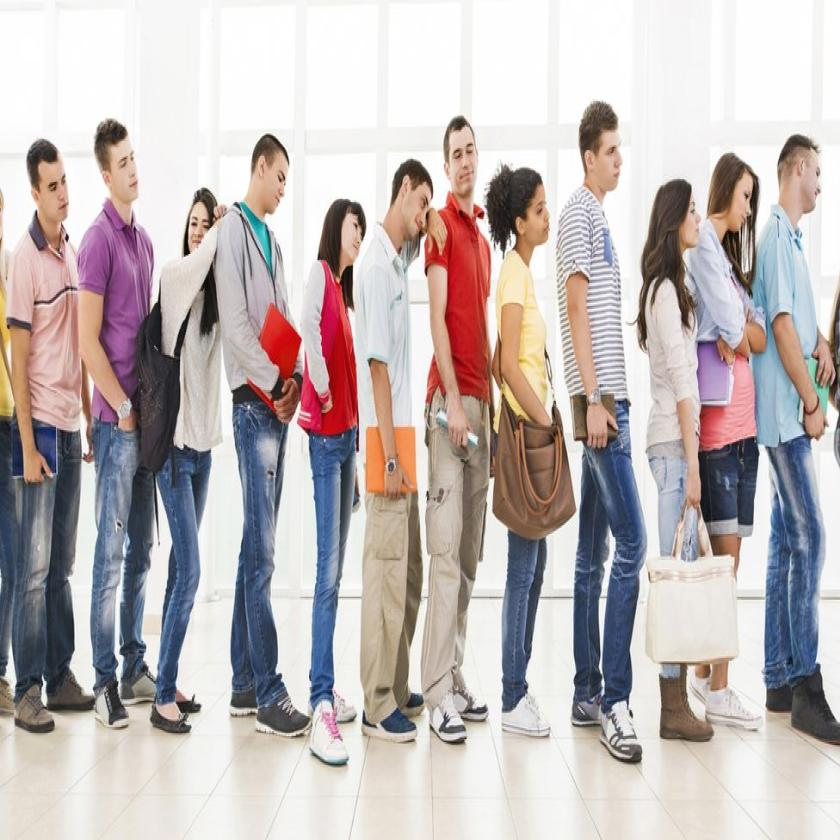Sin_casco: (485, 156, 552, 275), (578, 92, 624, 214), (386, 152, 438, 259), (774, 129, 823, 239), (90, 112, 144, 209), (320, 193, 366, 293), (247, 130, 293, 229), (25, 136, 72, 232), (653, 174, 702, 265), (711, 148, 753, 253), (442, 109, 483, 212), (182, 182, 221, 265)
